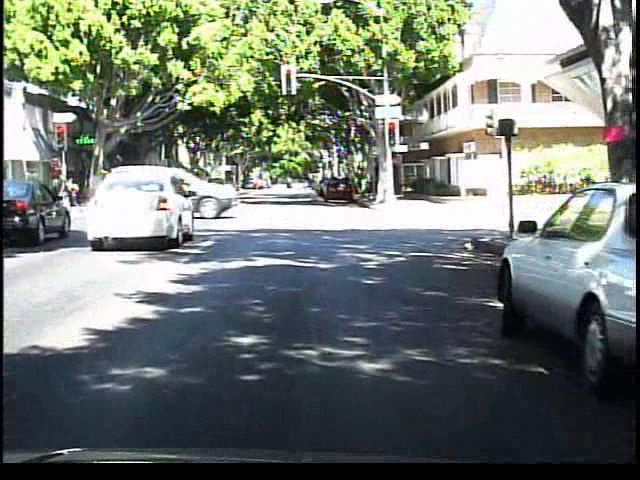person: (61, 164, 86, 210)
